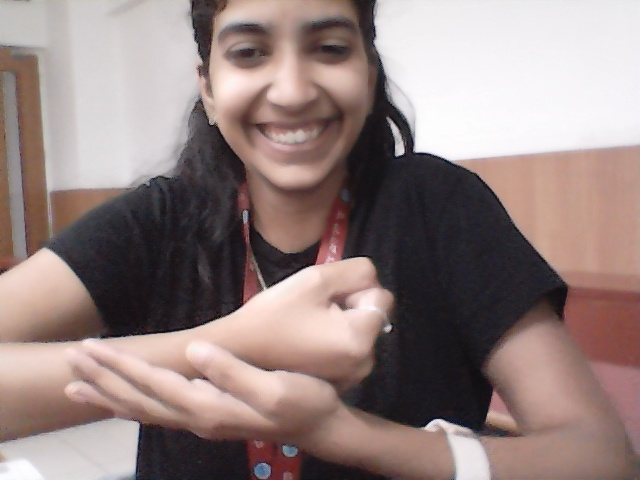Baby: (57, 208, 439, 464)
